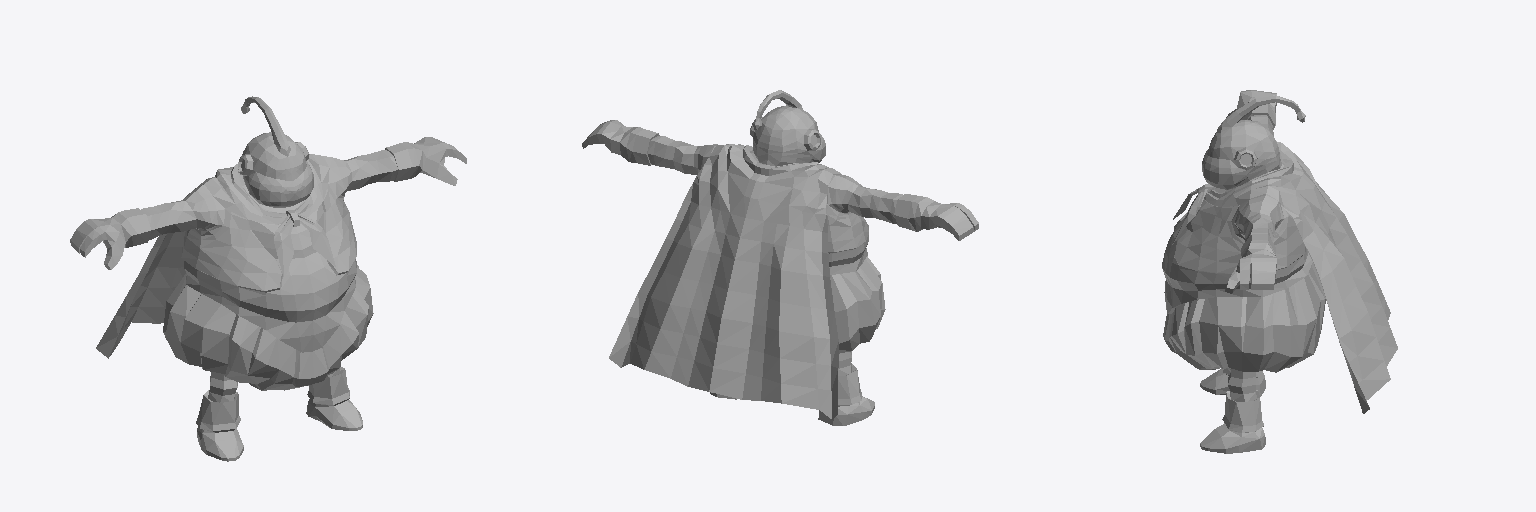
Rendered from Bou.obj.
The picture shows the model from 3 angles: view 1: azimuth 30°, elevation 25°; view 2: azimuth 150°, elevation 25°; view 3: azimuth 270°, elevation 25°; orthographic projection.
Parts seen in each view (by area): view 1: RefRep.249, RefRep.257, RefRep.247, RefRep.253, RefRep.255, RefRep.259, RefRep.245; view 2: RefRep.247, RefRep.249, RefRep.259, RefRep.245, RefRep.257, RefRep.253, RefRep.255; view 3: RefRep.247, RefRep.257, RefRep.253, RefRep.249, RefRep.245, RefRep.255, RefRep.259.
Part boxes in pixels (x1,y1,x2,y2): RefRep.249: (141, 150, 397, 322); RefRep.257: (163, 265, 373, 390); RefRep.247: (96, 154, 335, 358); RefRep.253: (186, 275, 362, 461); RefRep.255: (181, 171, 356, 292); RefRep.259: (70, 137, 466, 269); RefRep.245: (241, 96, 313, 207); RefRep.247: (609, 144, 840, 419); RefRep.249: (648, 136, 902, 266); RefRep.259: (582, 120, 978, 240); RefRep.245: (753, 90, 825, 166); RefRep.257: (830, 256, 885, 353); RefRep.253: (710, 248, 874, 425); RefRep.255: (757, 161, 868, 253); RefRep.247: (1172, 141, 1397, 413); RefRep.257: (1163, 263, 1325, 372); RefRep.253: (1164, 253, 1312, 453); RefRep.249: (1162, 115, 1307, 290); RefRep.245: (1202, 95, 1305, 189); RefRep.255: (1174, 158, 1305, 274); RefRep.259: (1225, 90, 1276, 293).
Bounding box in the file's own units: 25.17 × 20.17 × 13.47.